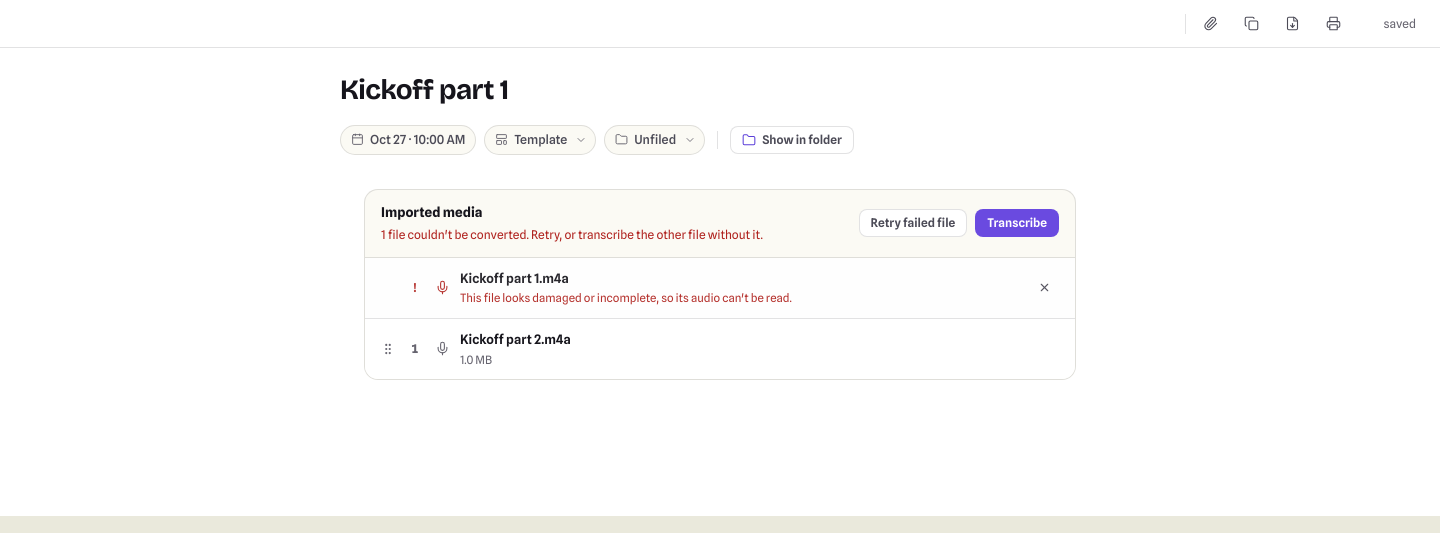
it: Editor › title › an imported note's title follows the first file when it's removed
Click the button named "Remove Kickoff part 1.m4a": (1044, 288) [1030,277,1059,298]
Wait 2000 ms
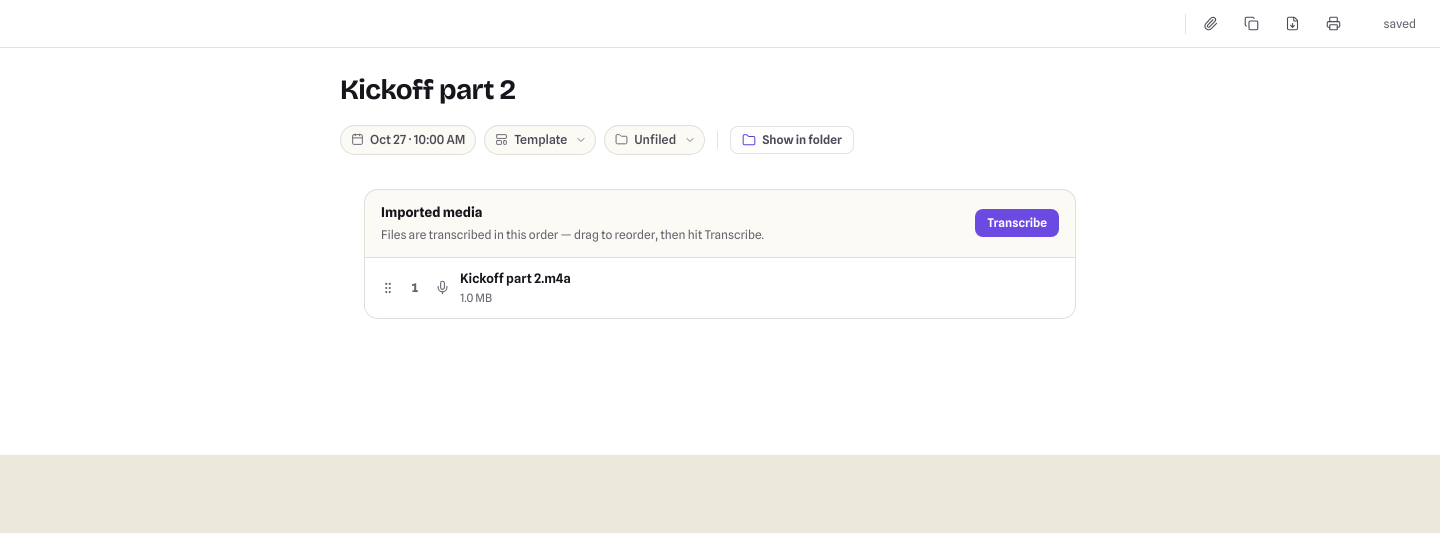
Now the field with placeholder "Untitled" holds "Kickoff part 2", box [340,68,1100,113]
